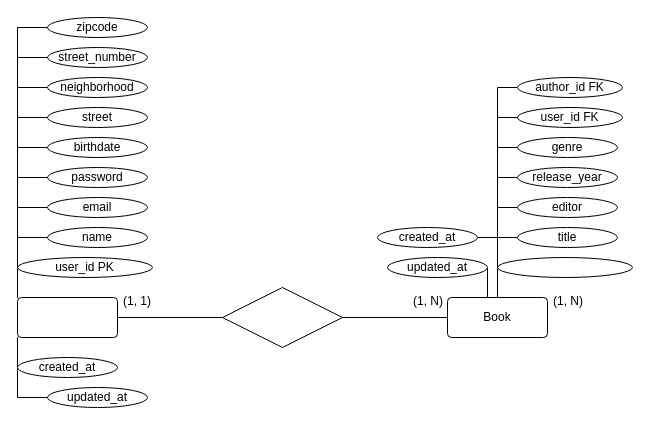
The diagram is 650 pixels wide and 425 high, and some of its shapes have lost their labels. Each missing label, with the centre of its shape:
"book_id PK" goes at [564,267].
"Buy" goes at [282,317].
"User" goes at [67,317].
